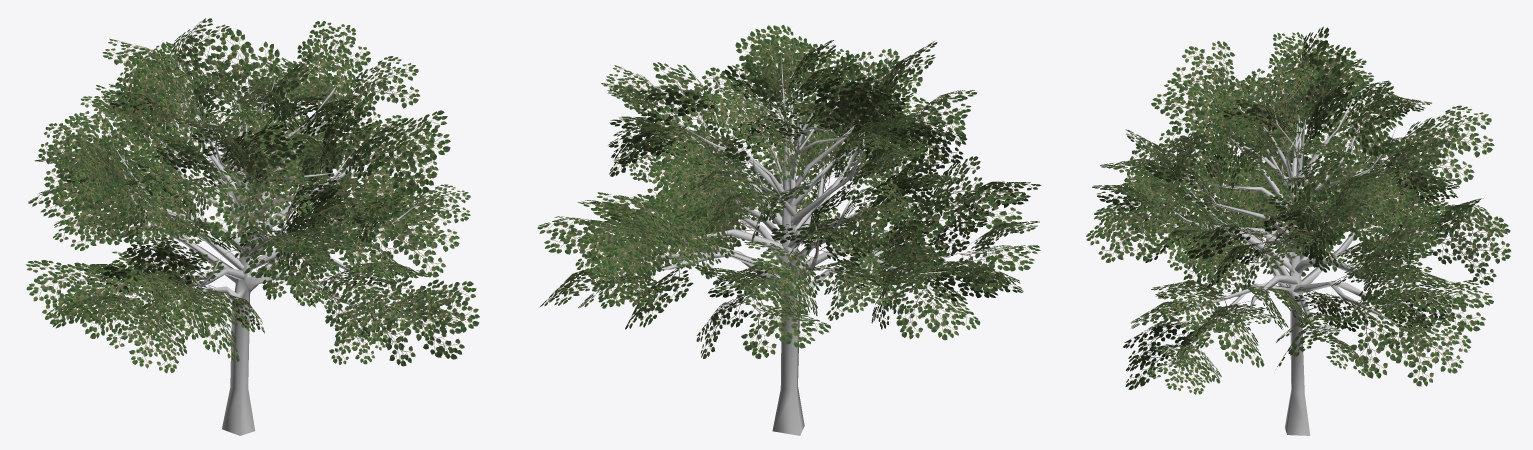
File: Tree2_L2.fbx
The picture shows the model from 3 angles, left to right: view 1: azimuth 30°, elevation 25°; view 2: azimuth 150°, elevation 25°; view 3: azimuth 270°, elevation 25°; orthographic projection. The views are drawn at different scales.
Parts seen in each view (by area): view 1: medium_size_tree_trunk_LOD_2_trunk.004; view 2: medium_size_tree_trunk_LOD_2_trunk.004; view 3: medium_size_tree_trunk_LOD_2_trunk.004.
Boxes of the visible parts, x1,y1,x2,y2 form: medium_size_tree_trunk_LOD_2_trunk.004: (26,18,479,435); medium_size_tree_trunk_LOD_2_trunk.004: (537,25,1041,435); medium_size_tree_trunk_LOD_2_trunk.004: (1086,26,1511,435).
Bounding box in the file's own units: 733 × 621 × 668.
